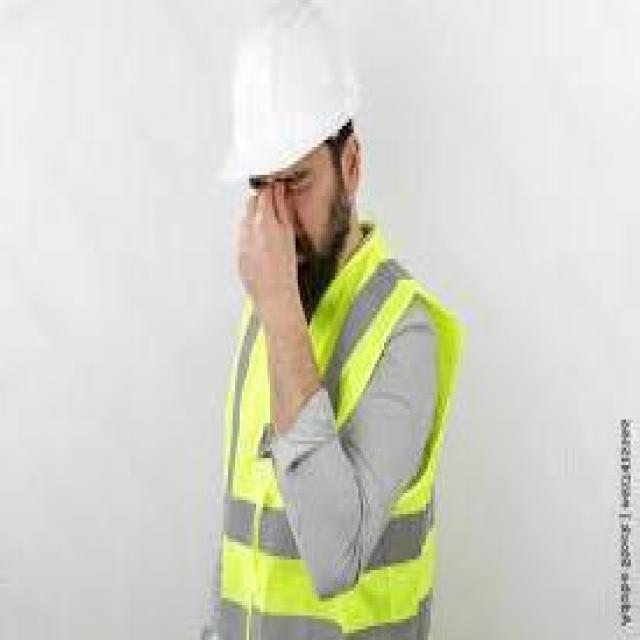Reflective-Jacket: (209, 238, 486, 633)
Safety-Helmet: (221, 7, 379, 189)
